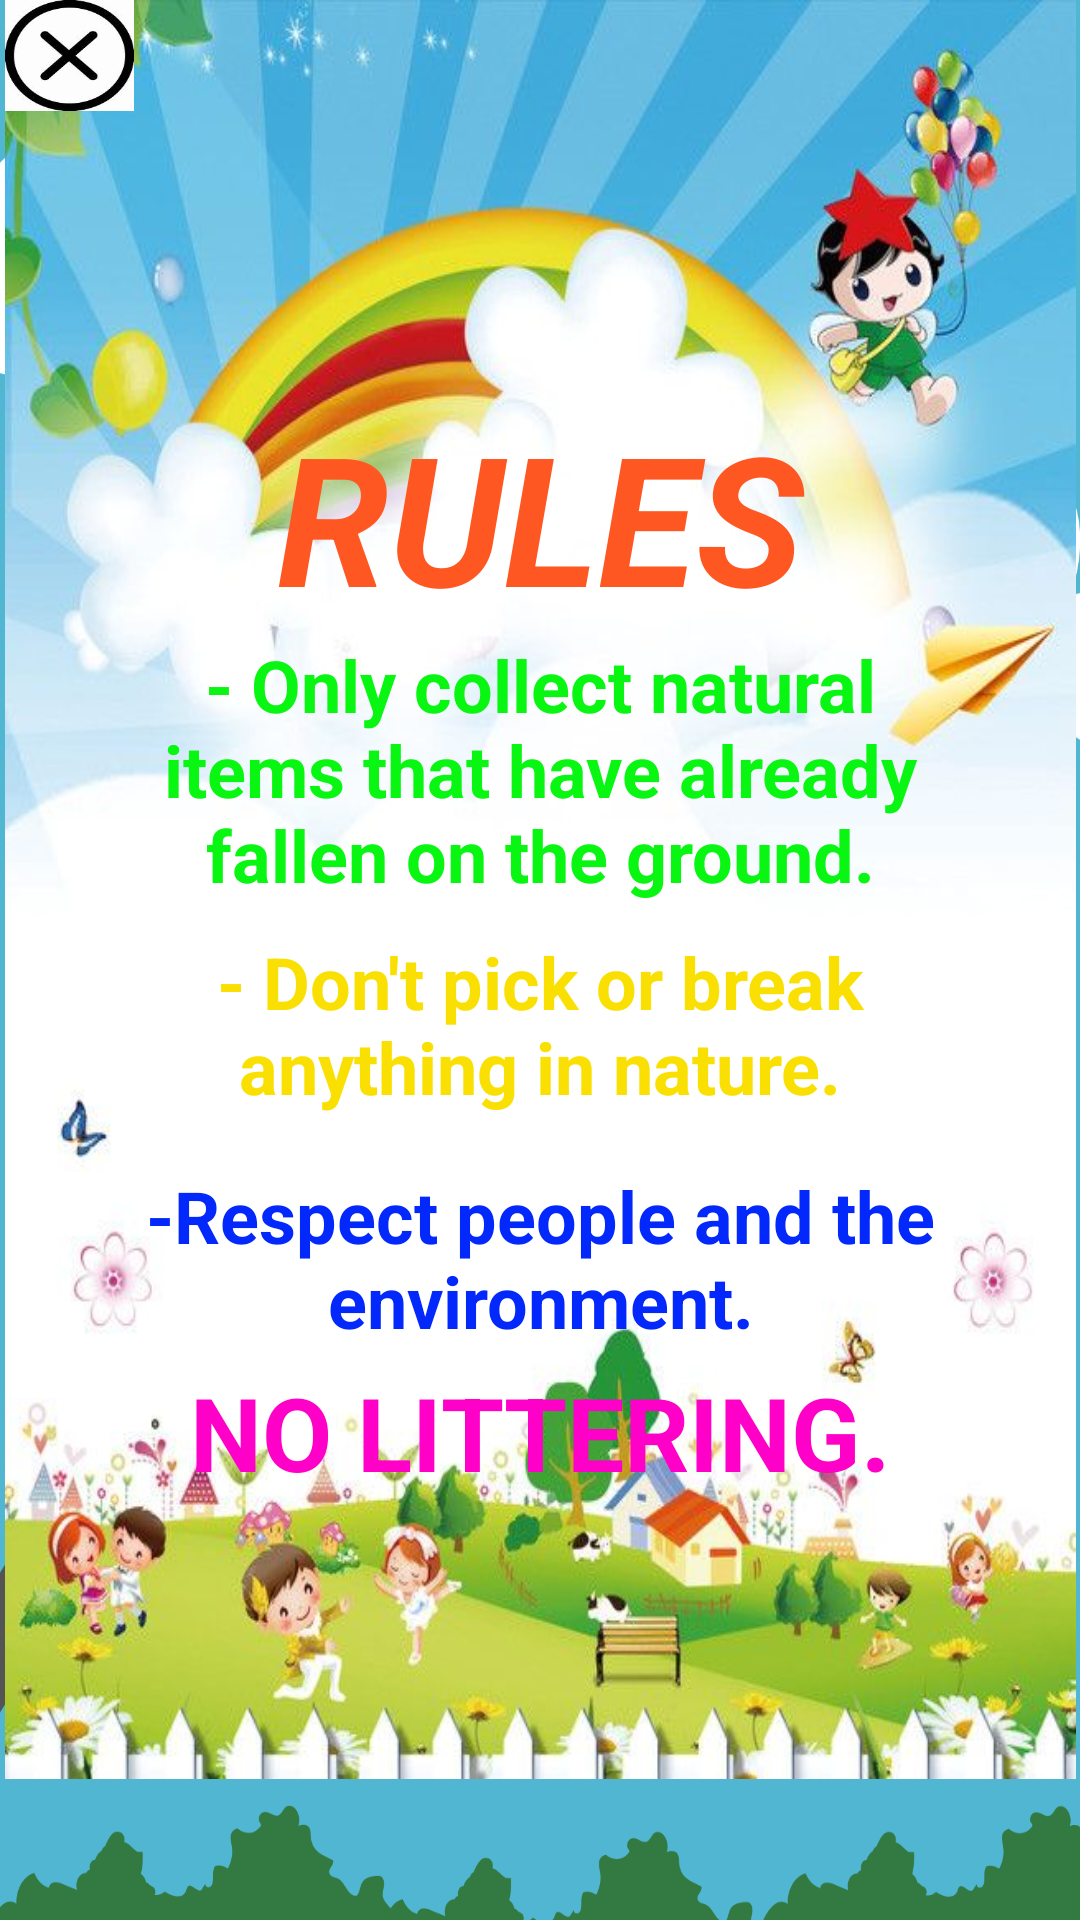

Where to tap for icons on this 1080x1920 app screen, as (x,y):
close: (69,55)
